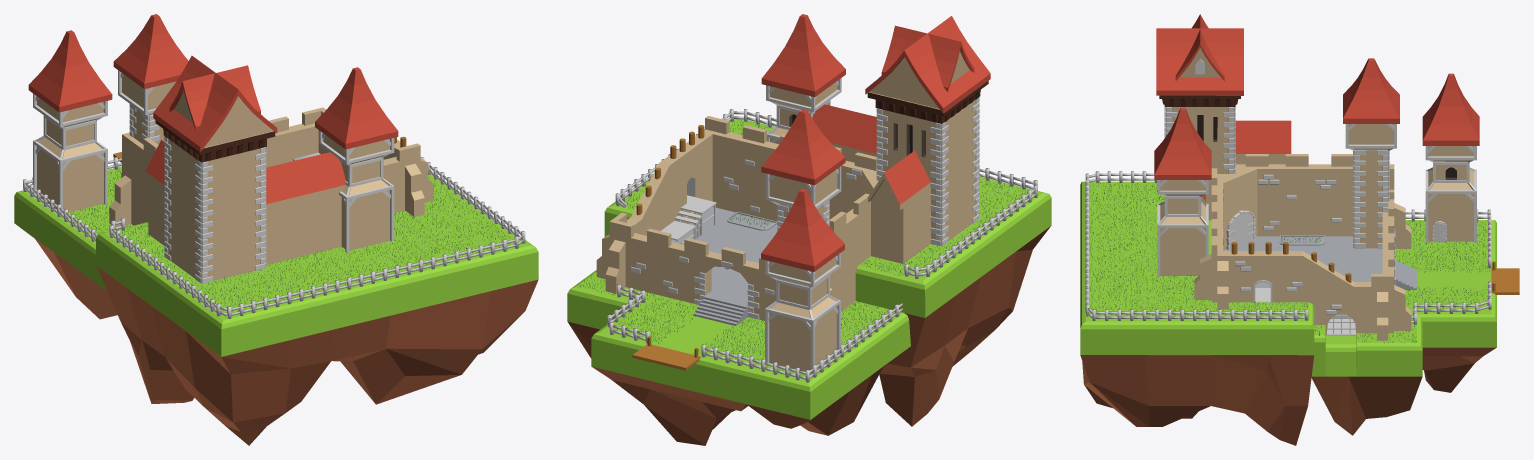
File: CastleBake_and_Paint.fbx
The picture shows the model from 3 angles, left to right: view 1: azimuth 30°, elevation 25°; view 2: azimuth 150°, elevation 25°; view 3: azimuth 270°, elevation 25°; orthographic projection. The views are drawn at different scales.
Parts seen in each view (by area): view 1: Mesh.001, Plane.001; view 2: Mesh.001, Plane.001; view 3: Mesh.001, Plane.001.
Boxes of the visible parts, left/top/right/bottom form: Mesh.001: left=14, top=14, right=538, bottom=445; Plane.001: left=68, top=168, right=511, bottom=317; Mesh.001: left=567, top=14, right=1051, bottom=445; Plane.001: left=578, top=120, right=1033, bottom=375; Mesh.001: left=1080, top=14, right=1519, bottom=445; Plane.001: left=1089, top=182, right=1489, bottom=343.
Size of the model in its own units: 6000 by 6430 by 7700.
